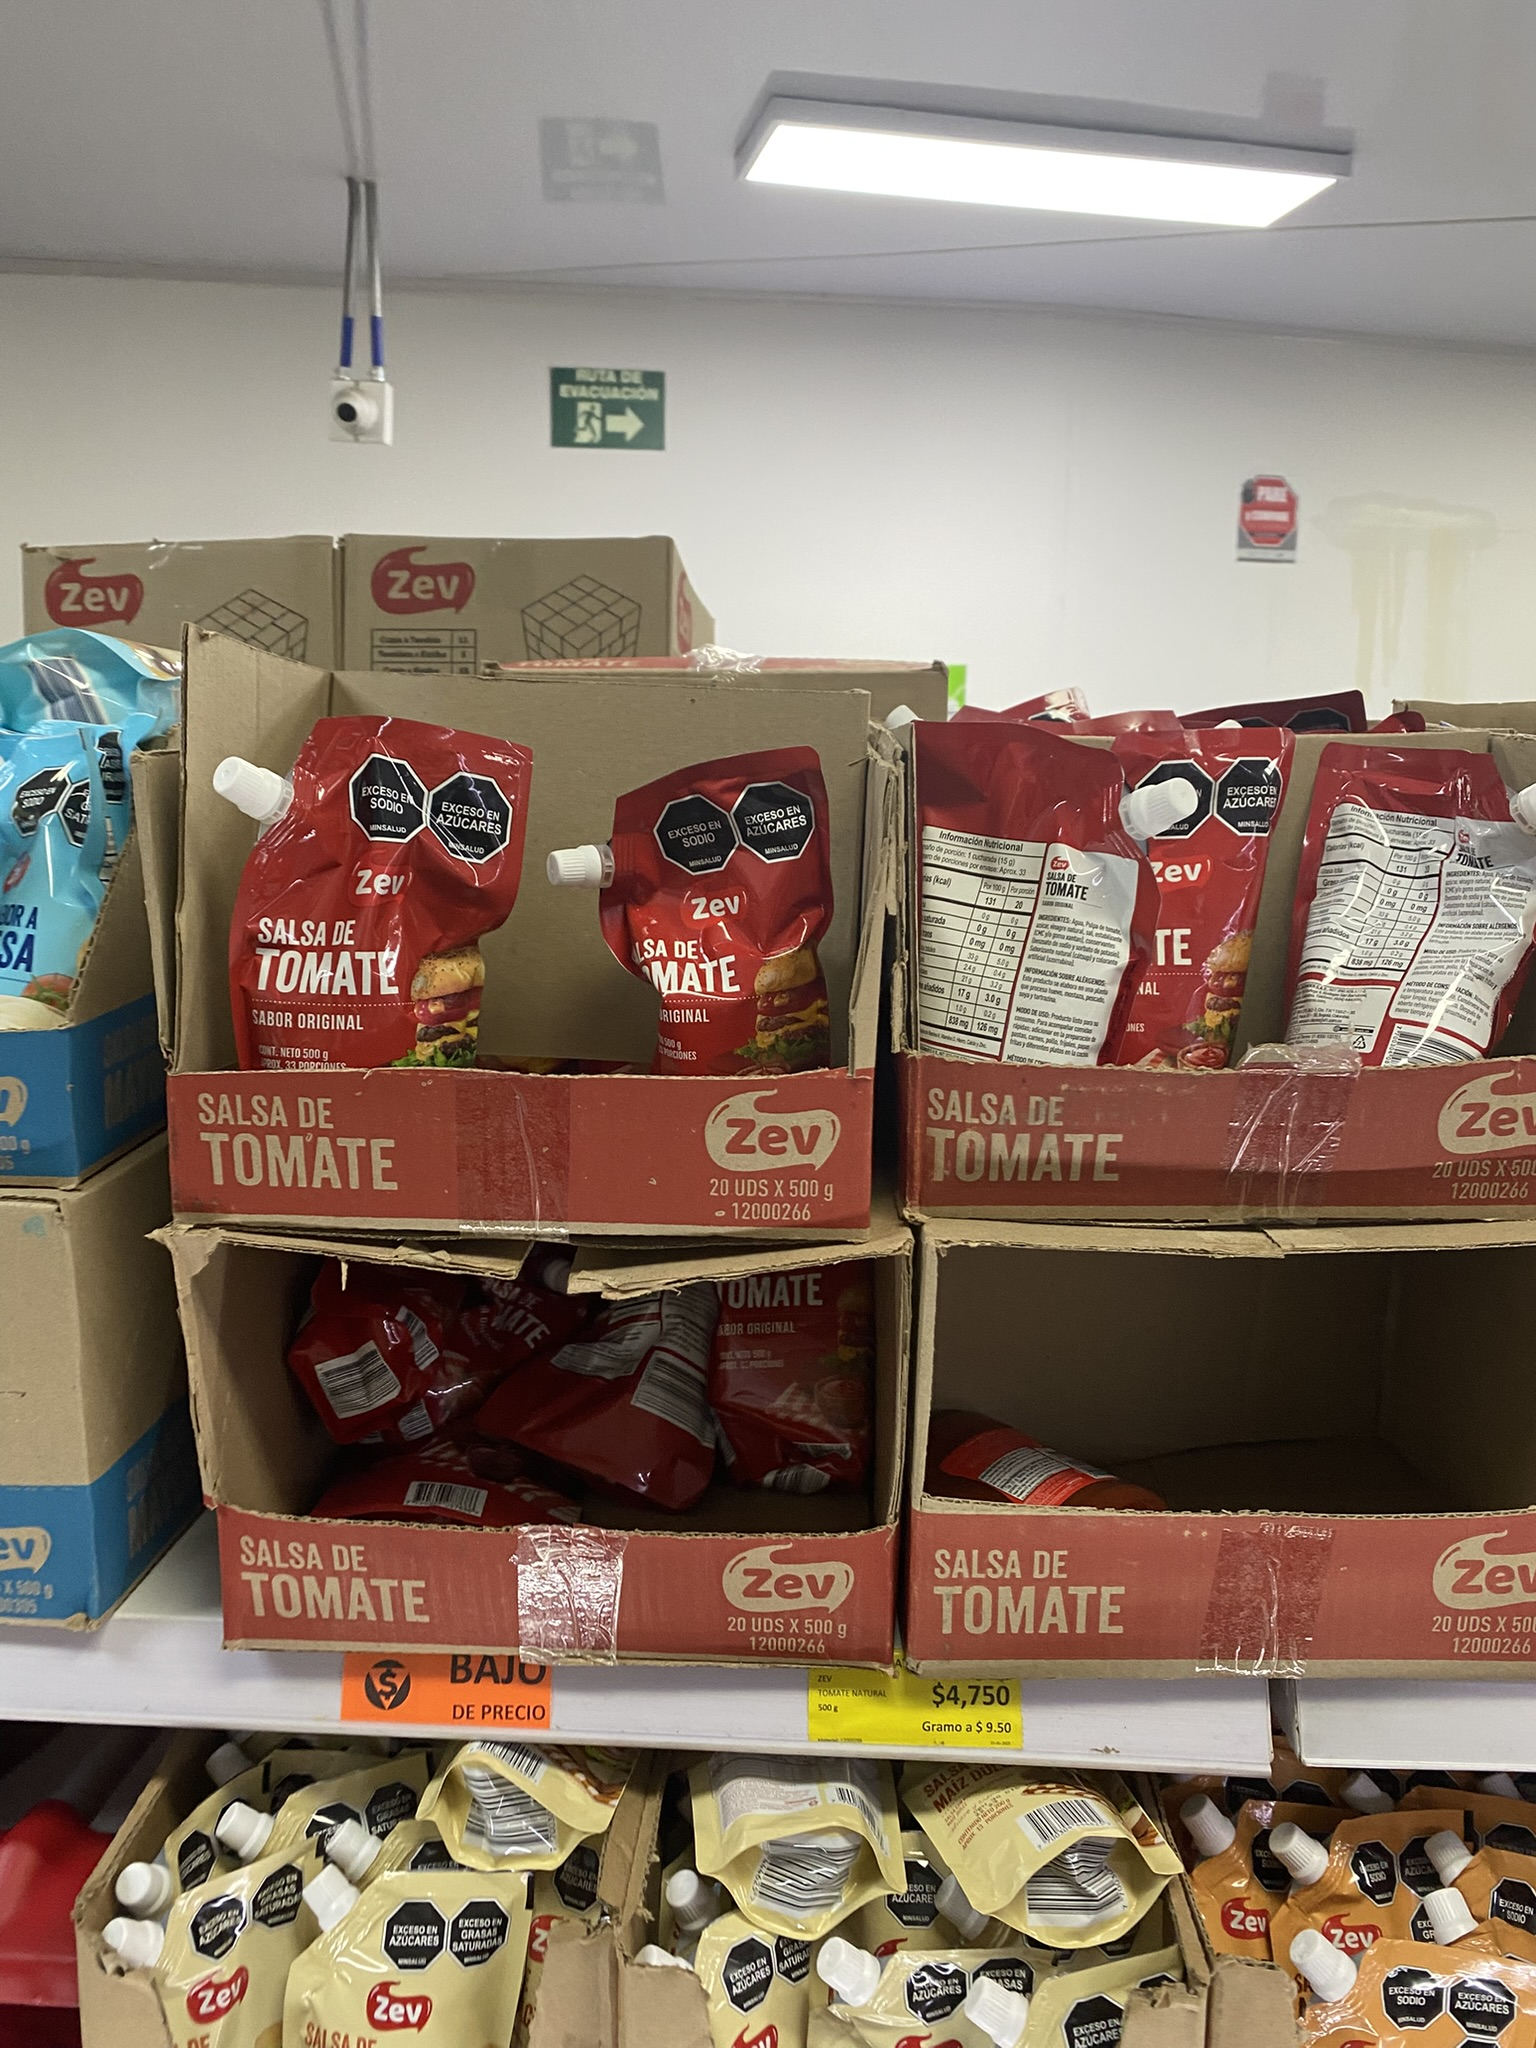Salsa de Tomate: (210, 721, 561, 1084), (916, 724, 1200, 1101), (1283, 739, 1536, 1116), (565, 729, 829, 1076), (1123, 726, 1296, 1084)
